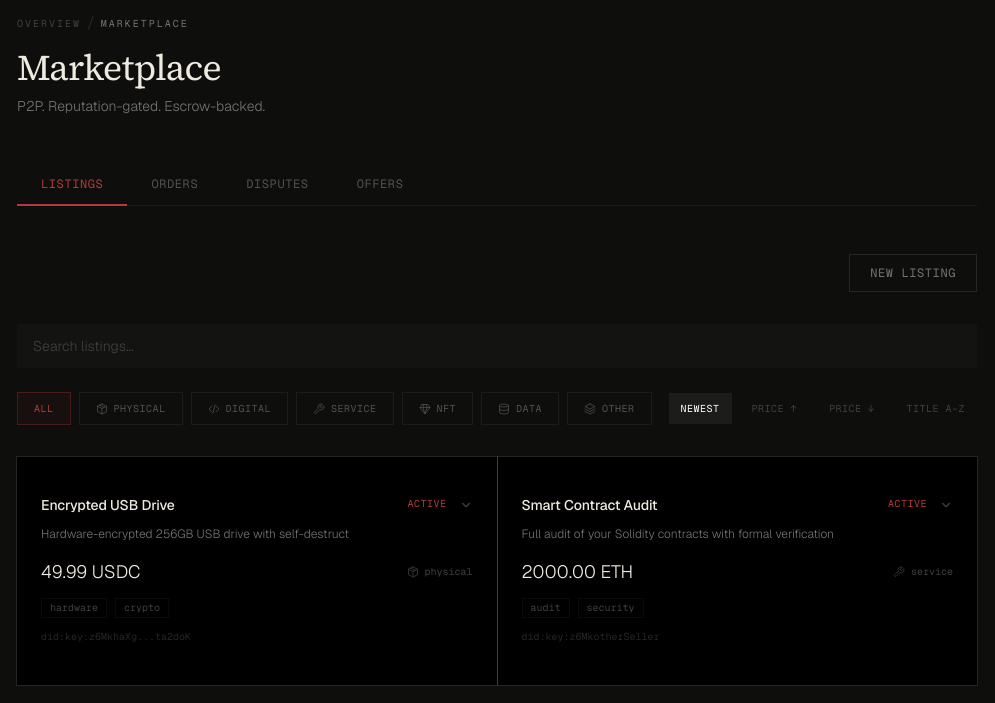
Scenario: Marketplace page › Empty states › shows empty disputes state
Click the button "Disputes" at (277, 185), box [222,164,333,206]
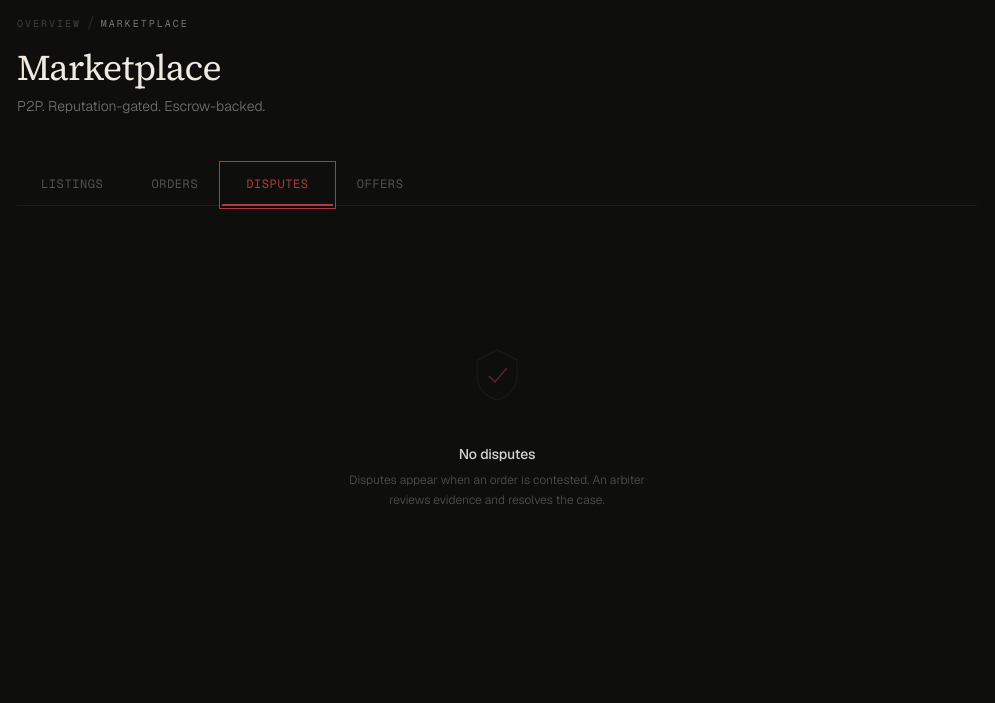
expect the heading "No disputes" is shown: met, box [459,446,535,463]
